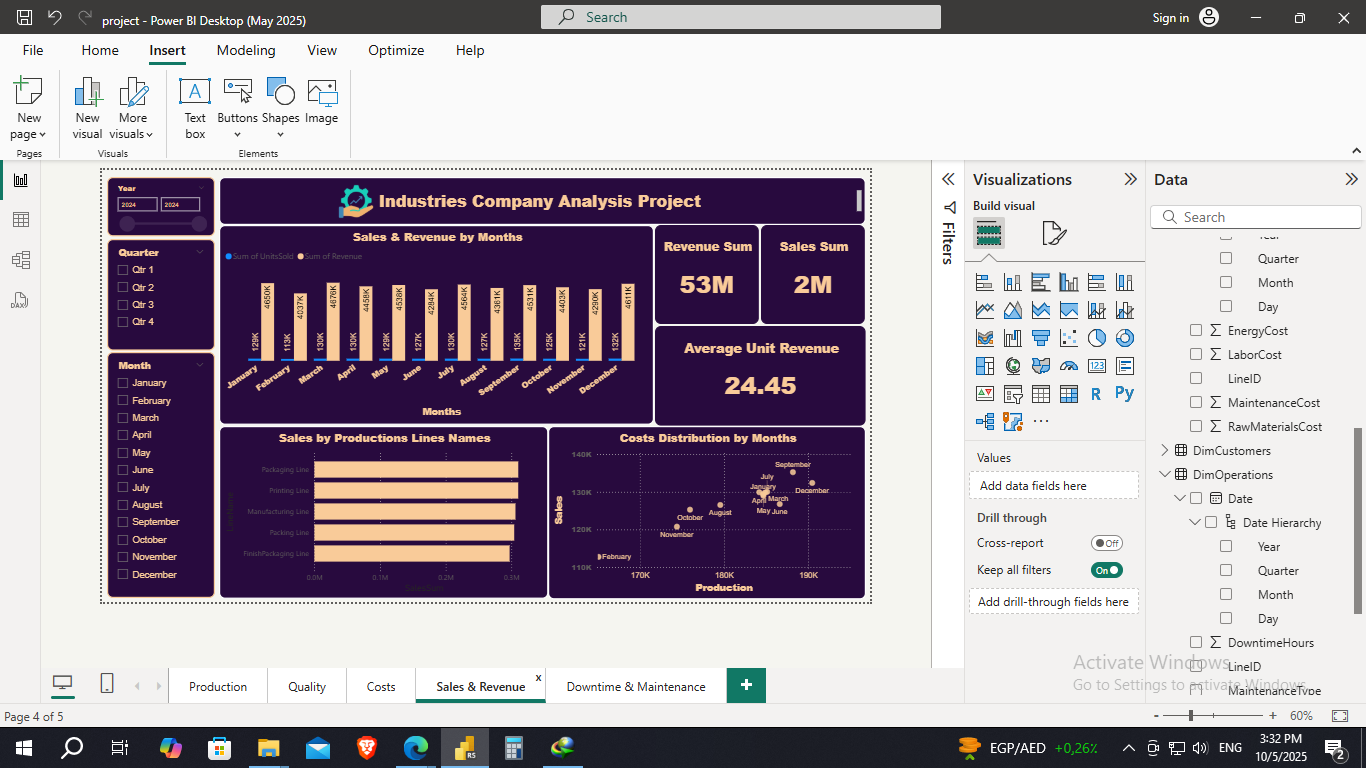

Layout of this report page (visuals, bound fields, positions):
{"tool":"powerbi","page":{"name":"Sales & Revenue","canvas":[1280,720],"ordinal":3},"visuals":[{"type":"textbox","box":[194.9,11.8,1078.4,80],"z":0,"group":"g1"},{"type":"card","title":"Average Unit Revenue","fields":{"Values":["A_Measure_Table.UnitRevenueAvg"]},"box":[921.6,259.2,351.4,165.6],"z":0},{"type":"slicer","title":"Year","fields":{"Values":["DimOperations.Date.Variation.Date Hierarchy.Year"]},"box":[8.4,11.8,179.7,99.1],"z":1000},{"type":"image","box":[384.7,14.7,77.7,74.6],"z":1000,"group":"g1"},{"type":"scatterChart","title":"Costs Distribution by Months","fields":{"X":["A_Measure_Table.ActualProduction"],"Y":["A_Measure_Table.SalesSum"],"Category":["DimSales.Date.Variation.Date Hierarchy.Month"]},"box":[743,426.2,529.9,289.4],"z":2000},{"type":"lineClusteredColumnComboChart","title":"Sales & Revenue by Months","fields":{"Category":["DimSales.Date.Variation.Date Hierarchy.Month"],"Y":["Sum(DimSales.UnitsSold)","Sum(DimSales.Revenue)"]},"box":[194.4,92.2,725,332.6],"z":3000},{"type":"card","title":"Revenue Sum","fields":{"Values":["A_Measure_Table.RevenueSum"]},"box":[921.6,92.2,172.8,165],"z":4000},{"type":"slicer","title":"Year","fields":{"Values":["DimSales.Date.Variation.Date Hierarchy.Quarter"]},"box":[8.4,114.2,179.7,186.5],"z":5000},{"type":"slicer","title":"Year","fields":{"Values":["DimSales.Date.Variation.Date Hierarchy.Month"]},"box":[8.4,304,179.7,409.9],"z":6000},{"type":"barChart","title":"Sales by Productions Lines Names","fields":{"Category":["FactProductionLines.LineName"],"Y":["A_Measure_Table.SalesSum"]},"box":[194.4,426.2,548.6,288],"z":8000},{"type":"card","title":"Sales Sum","fields":{"Values":["A_Measure_Table.SalesSum"]},"box":[1098.3,91.7,173.3,165],"z":9000},{"type":"group","id":"g1","title":"Group 1","box":[194.9,11.8,1078.4,80],"z":9001}]}

Visuals, with their boxes on the page's 1280x720 design canvas (x1, y1, x2, y2). These are canvas units, not pixel positions in the 1366x768 screenshot, which may show the page scaled, cropped or inside an application window:
textbox: x1=195, y1=12, x2=1273, y2=92
"Average Unit Revenue" card: x1=922, y1=259, x2=1273, y2=425
"Year" slicer: x1=8, y1=12, x2=188, y2=111
image: x1=385, y1=15, x2=462, y2=89
"Costs Distribution by Months" scatterChart: x1=743, y1=426, x2=1273, y2=716
"Sales & Revenue by Months" lineClusteredColumnComboChart: x1=194, y1=92, x2=919, y2=425
"Revenue Sum" card: x1=922, y1=92, x2=1094, y2=257
"Year" slicer: x1=8, y1=114, x2=188, y2=301
"Year" slicer: x1=8, y1=304, x2=188, y2=714
"Sales by Productions Lines Names" barChart: x1=194, y1=426, x2=743, y2=714
"Sales Sum" card: x1=1098, y1=92, x2=1272, y2=257
"Group 1" group: x1=195, y1=12, x2=1273, y2=92
